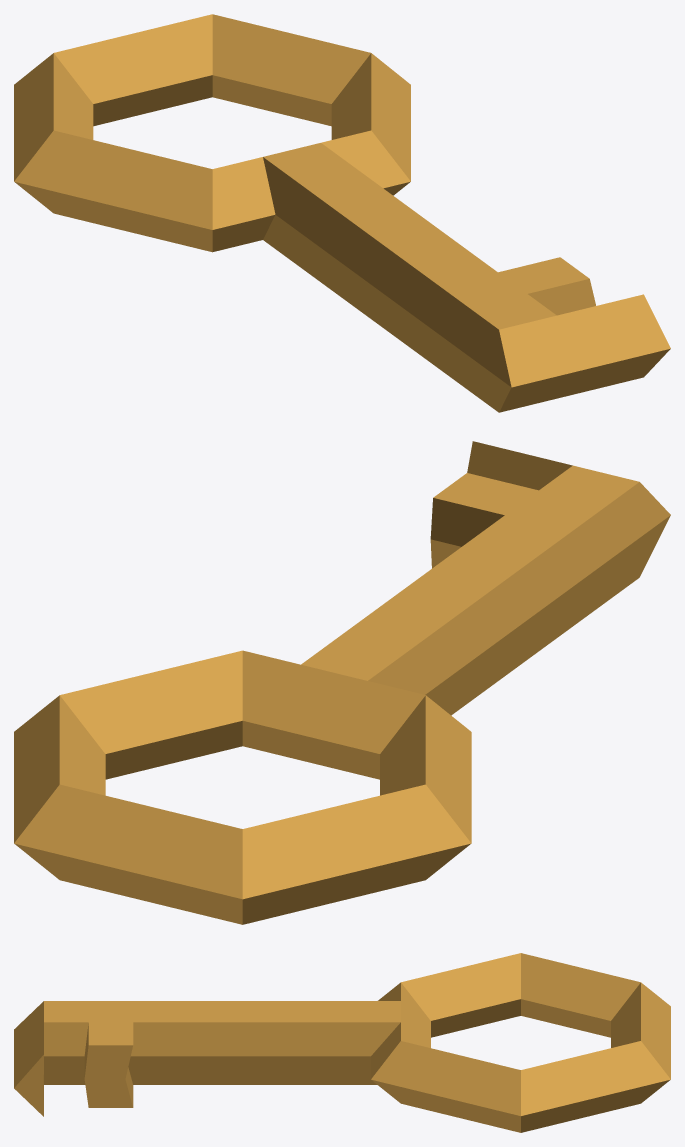
Rendered from Key.glb.
The picture shows the model from 3 angles, top to bottom: view 1: azimuth 30°, elevation 25°; view 2: azimuth 150°, elevation 25°; view 3: azimuth 270°, elevation 25°; orthographic projection. The views are drawn at different scales.
Parts seen in each view (by area): view 1: Torus; view 2: Torus; view 3: Torus.
Boxes of the visible parts, x1,y1,x2,y2 form: Torus: (14,14,670,412); Torus: (14,441,670,924); Torus: (14,953,670,1132).
Bounding box in the file's own units: 2.5 × 0.5 × 4.74.
